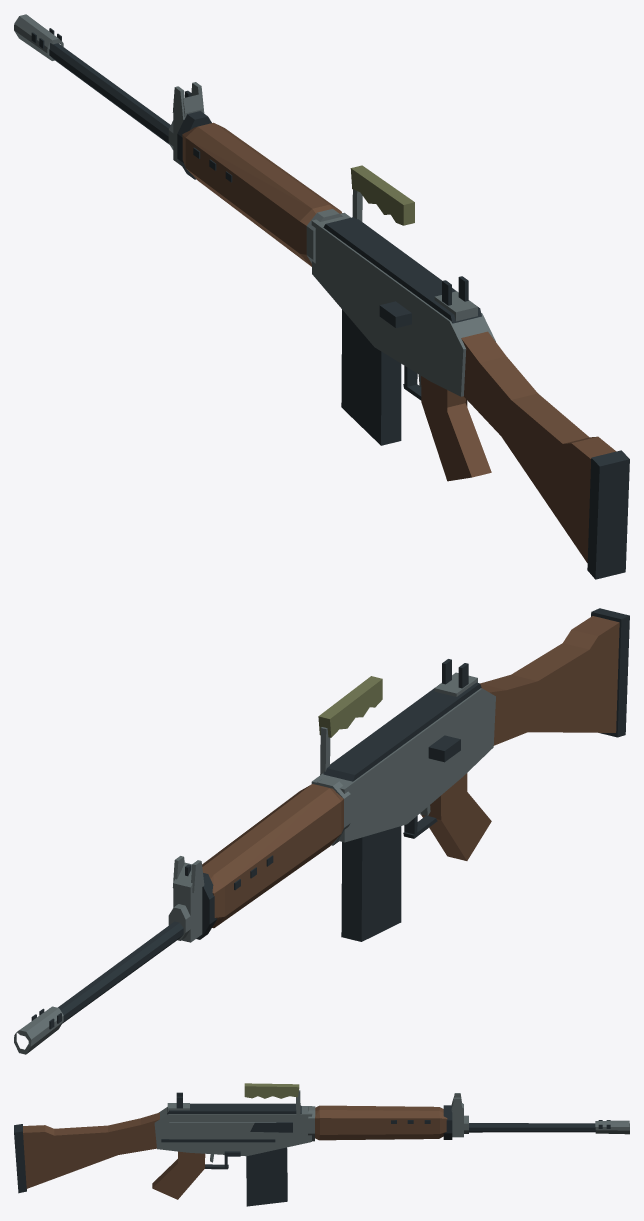
Rendered from FNFAL.glb.
3 renders of one model, top to bottom at view 1: azimuth 30°, elevation 25°; view 2: azimuth 150°, elevation 25°; view 3: azimuth 270°, elevation 25°, orthographic. The views are drawn at different scales.
Visible parts, largest first — view 1: Wood_stock_0, Receiver_3, Handguard_23, Straight_magazine_15, Butt_pad_2, Pistol_grip_9, Top_cover_4, Barrel_33, Carry_handle_49, Flash_hider_35; view 2: Wood_stock_0, Receiver_3, Handguard_23, Straight_magazine_15, Top_cover_4, Pistol_grip_9, Barrel_33, Carry_handle_49, Butt_pad_2, Gas_block_41, Flash_hider_35, Handguard_front_band_26 (+1 smaller); view 3: Wood_stock_0, Handguard_23, Receiver_3, Straight_magazine_15, Upper_receiver_side_5, Pistol_grip_9, Top_cover_4, Barrel_33, Carry_handle_49, Butt_pad_2, Flash_hider_35, Receiver_seam_6 (+5 smaller).
Part boxes in pixels (x1=…): Wood_stock_0: x1=461, y1=331, x2=616, y2=562; Receiver_3: x1=311, y1=212, x2=495, y2=396; Handguard_23: x1=182, y1=122, x2=341, y2=266; Straight_magazine_15: x1=341, y1=309, x2=401, y2=445; Butt_pad_2: x1=587, y1=450, x2=629, y2=579; Pistol_grip_9: x1=421, y1=376, x2=491, y2=481; Top_cover_4: x1=323, y1=217, x2=481, y2=323; Barrel_33: x1=49, y1=43, x2=170, y2=144; Carry_handle_49: x1=350, y1=165, x2=414, y2=225; Flash_hider_35: x1=14, y1=14, x2=63, y2=60; Wood_stock_0: x1=480, y1=616, x2=619, y2=745; Receiver_3: x1=311, y1=688, x2=495, y2=842; Handguard_23: x1=202, y1=784, x2=343, y2=928; Straight_magazine_15: x1=341, y1=826, x2=401, y2=941; Top_cover_4: x1=323, y1=682, x2=481, y2=781; Pistol_grip_9: x1=421, y1=773, x2=491, y2=860; Barrel_33: x1=58, y1=921, x2=183, y2=1023; Carry_handle_49: x1=318, y1=676, x2=382, y2=737; Butt_pad_2: x1=591, y1=608, x2=629, y2=737; Gas_block_41: x1=173, y1=862, x2=202, y2=942; Flash_hider_35: x1=14, y1=1006, x2=63, y2=1054; Handguard_front_band_26: x1=196, y1=873, x2=217, y2=939; Wood_stock_0: x1=23, y1=1112, x2=159, y2=1188; Handguard_23: x1=315, y1=1105, x2=447, y2=1140; Receiver_3: x1=154, y1=1106, x2=312, y2=1156; Straight_magazine_15: x1=246, y1=1147, x2=287, y2=1206; Upper_receiver_side_5: x1=169, y1=1122, x2=276, y2=1139; Pistol_grip_9: x1=152, y1=1151, x2=205, y2=1199; Top_cover_4: x1=167, y1=1103, x2=301, y2=1114; Barrel_33: x1=469, y1=1123, x2=595, y2=1132; Carry_handle_49: x1=244, y1=1083, x2=299, y2=1098; Butt_pad_2: x1=14, y1=1124, x2=26, y2=1193; Flash_hider_35: x1=595, y1=1120, x2=629, y2=1134; Receiver_seam_6: x1=161, y1=1139, x2=275, y2=1142.
Bounding box in the file's own units: 0.0669 × 0.2751 × 1.25.
